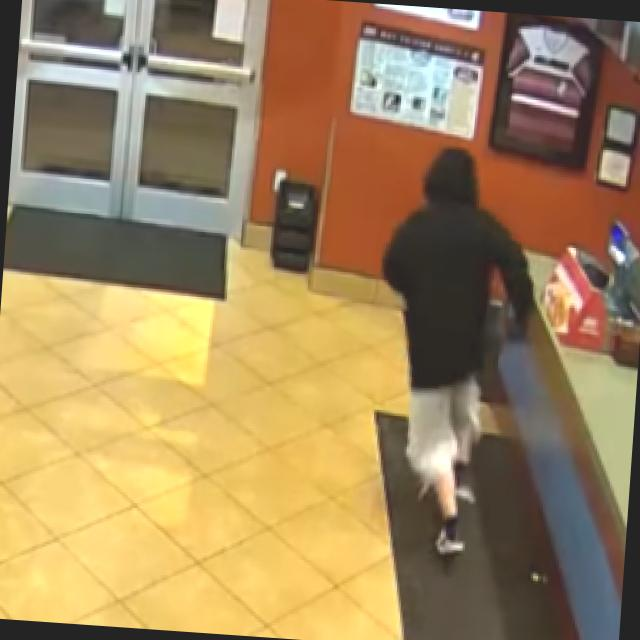person: (362, 142, 545, 557)
